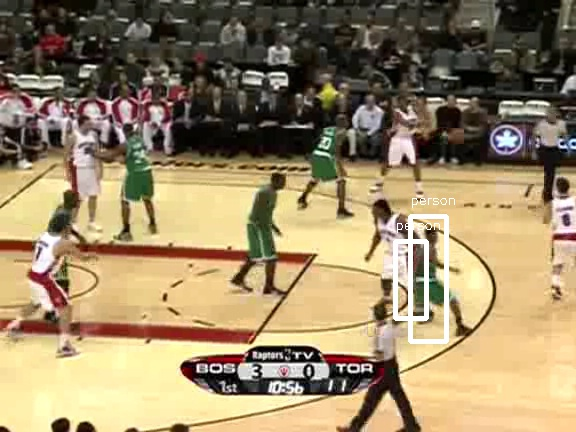person: (412, 237, 446, 318), (411, 237, 445, 318), (413, 237, 447, 318), (412, 236, 446, 317), (412, 238, 446, 319)
target_negative: (62, 60, 535, 296), (60, 24, 381, 354), (288, 178, 440, 380), (180, 393, 483, 417), (554, 28, 575, 231), (493, 424, 552, 429)
